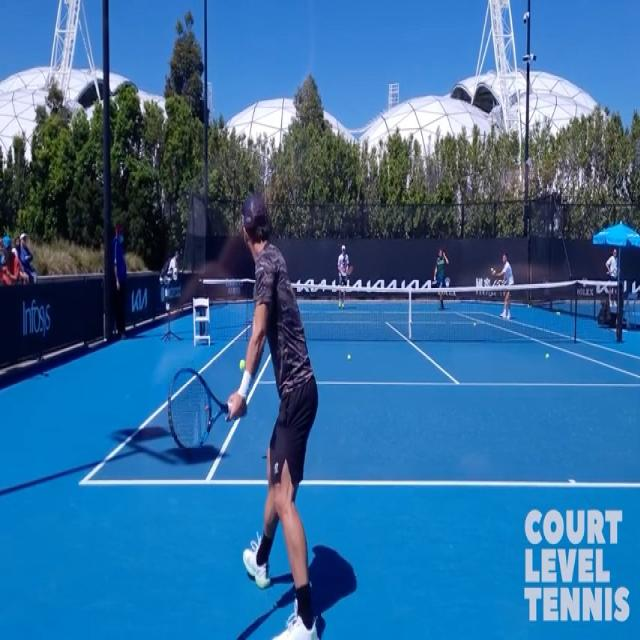backhand-ready: (164, 167, 324, 640)
